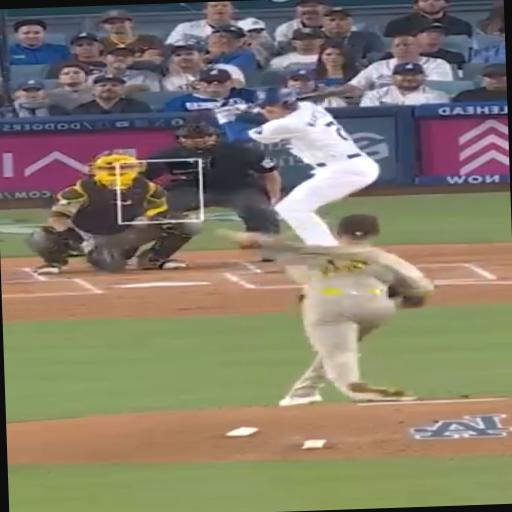bat: (229, 84, 358, 108)
